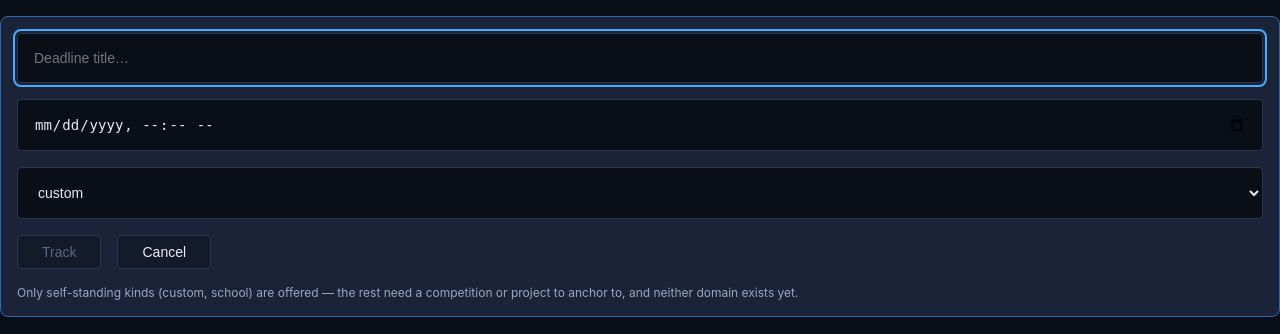
Test: DeadlineForm › Track is disabled until both a title and a due date are entered
Expected: the button "Track" is disabled, [17,235,102,269]
Type "Submit entry" into the field with placeholder "Deadline title…".
click(640, 58); type("Submit entry")  # box [17,33,1263,83]
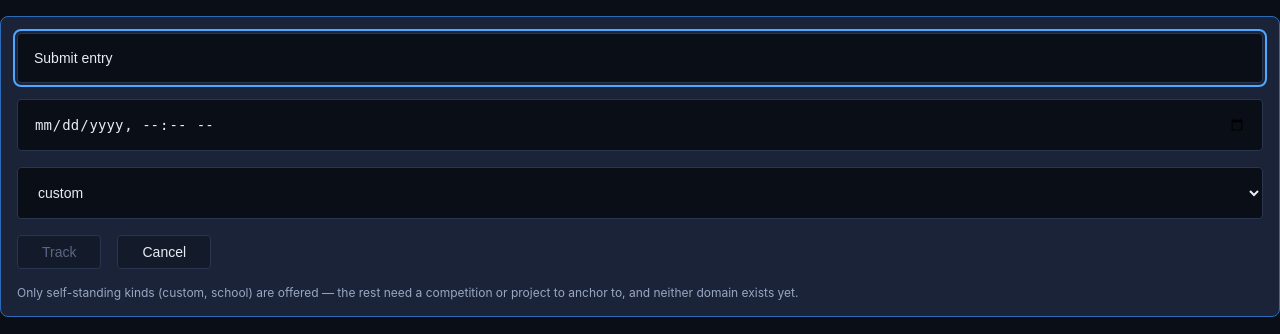
Expected: the button "Track" is disabled, [17,235,102,269]
Type "2026-09-01T17:00" into the field named "Due at".
click(640, 125); type("2026-09-01T17:00")  # box [17,99,1263,151]
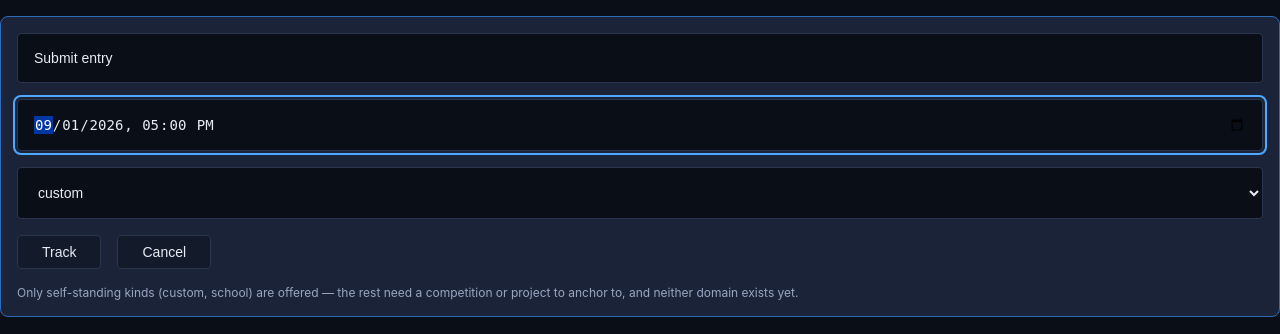
Result: the button "Track" is enabled at [17,235,102,269]
